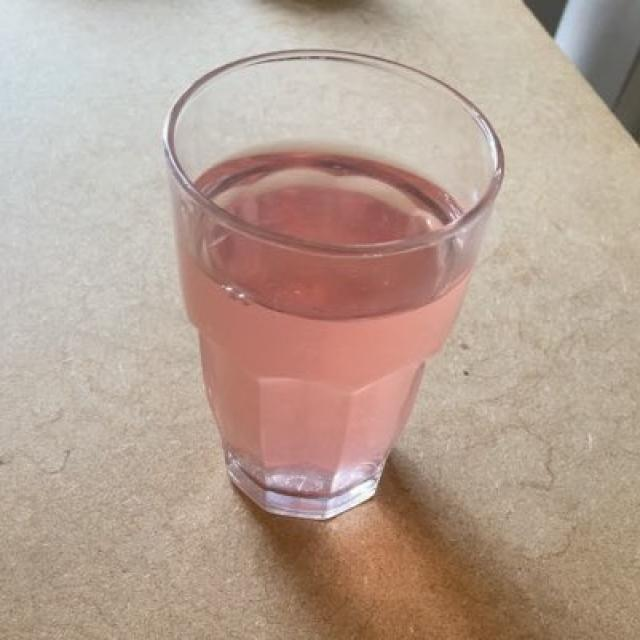tea: (186, 150, 486, 497)
